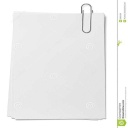Metal: (69, 2, 109, 39)
